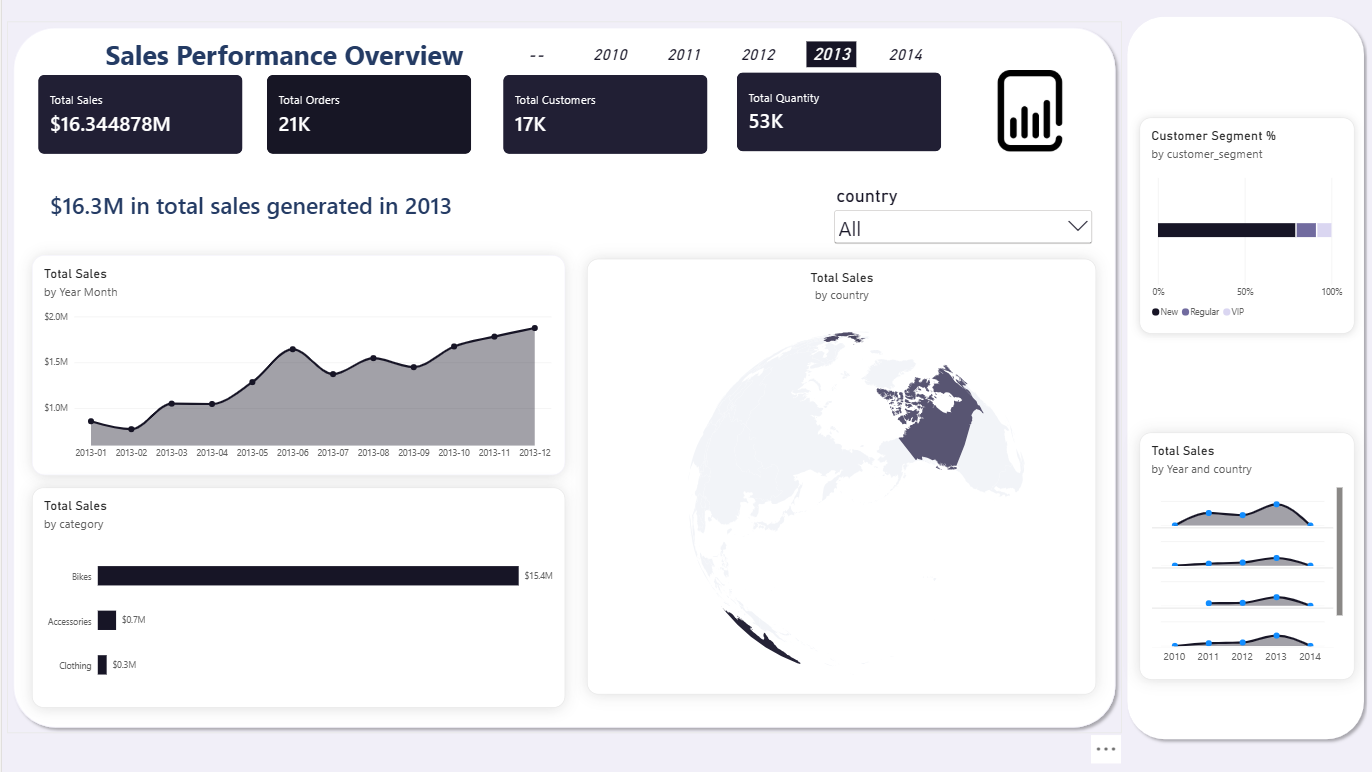

What the dashboard file says about the page in this screenshot:
{"tool":"powerbi","page":{"name":"Page 1","canvas":[1920,1080],"ordinal":0},"visuals":[{"type":"shape","box":[6.3,29.3,1555.7,994.5],"z":0},{"type":"cardVisual","fields":{"Data":["gold fact_sales.Total Sales"]},"box":[50.3,104.7,285,110],"z":1000},{"type":"cardVisual","fields":{"Data":["gold fact_sales.Total Orders"]},"box":[370.6,104.7,285,110],"z":2000},{"type":"cardVisual","fields":{"Data":["gold fact_sales.Total Customers"]},"box":[699.3,104.7,285,110],"z":3000},{"type":"cardVisual","fields":{"Data":["gold fact_sales.Total Quantity"]},"box":[1025,101.7,285,110],"z":4000},{"type":"lineChart","fields":{"Category":["DateTable.Year Month"],"Y":["gold fact_sales.Total Sales"]},"box":[41.9,355.9,744.3,307.1],"z":5000},{"type":"clusteredBarChart","fields":{"Category":["gold dim_products.category"],"Y":["gold fact_sales.Total Sales"]},"box":[41.9,680.5,744.3,307.1],"z":6000},{"type":"textbox","box":[0,50.3,741.2,62.8],"z":7000},{"type":"cardVisual","fields":{"Data":["gold fact_sales.Headline Sentence"]},"box":[50.3,238.7,691.9,92.8],"z":8000},{"type":"advancedSlicerVisual","fields":{"Values":["DateTable.Year"]},"box":[697.2,50.3,613.5,52.3],"z":9000},{"type":"slicer","fields":{"Values":["gold dim_customers.country"]},"box":[1156.7,258.3,370,97.5],"z":10000},{"type":"shapeMap","fields":{"Category":["gold dim_customers.country"],"Value":["gold fact_sales.Total Sales"]},"box":[816.7,361.7,710,608.3],"z":11000},{"type":"shape","box":[1561.7,13.3,348.3,1026.7],"z":12000},{"type":"hundredPercentStackedBarChart","fields":{"Series":["gold report_customers.customer_segment"],"Y":["gold fact_sales.Customer Segment %"]},"box":[1586.7,163.3,300,301.7],"z":13000},{"type":"areaChart","fields":{"Category":["DateTable.Year"],"Rows":["gold dim_customers.country"],"Y":["gold fact_sales.Total Sales"]},"box":[1586.7,603.3,300,345],"z":14000},{"type":"image","box":[1238.3,98.3,391.7,113.3],"z":15001}]}

Visuals, with their boxes in screenshot pixels (x1, y1, x2, y2), scaled from the page's 1920x1080 canvas onto the 1372x772 screenshot:
shape: [5, 21, 1116, 732]
cardVisual - gold fact_sales.Total Sales: [36, 75, 240, 153]
cardVisual - gold fact_sales.Total Orders: [265, 75, 468, 153]
cardVisual - gold fact_sales.Total Customers: [500, 75, 703, 153]
cardVisual - gold fact_sales.Total Quantity: [732, 73, 936, 151]
lineChart - DateTable.Year Month x gold fact_sales.Total Sales: [30, 254, 562, 474]
clusteredBarChart - gold dim_products.category x gold fact_sales.Total Sales: [30, 486, 562, 706]
textbox: [0, 36, 530, 81]
cardVisual - gold fact_sales.Headline Sentence: [36, 171, 530, 237]
advancedSlicerVisual - DateTable.Year: [498, 36, 937, 73]
slicer - gold dim_customers.country: [827, 185, 1091, 254]
shapeMap - gold dim_customers.country x gold fact_sales.Total Sales: [584, 259, 1091, 693]
shape: [1116, 10, 1365, 743]
hundredPercentStackedBarChart - gold report_customers.customer_segment x gold fact_sales.Customer Segment %: [1134, 117, 1348, 332]
areaChart - DateTable.Year x gold dim_customers.country: [1134, 431, 1348, 678]
image: [885, 70, 1165, 151]
